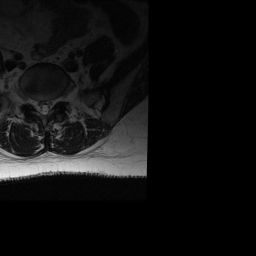CCS_normal: (41, 95, 46, 118)
LFS_stenosis: (52, 94, 59, 109)
LLS_normal: (47, 96, 52, 114)
RFS_normal: (28, 94, 34, 108)
RLS_normal: (34, 95, 41, 115)
